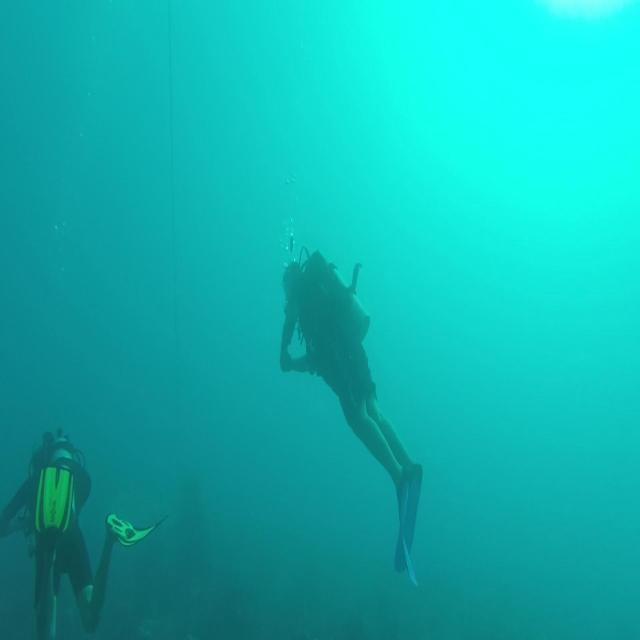human: (278, 245, 424, 586), (0, 426, 166, 638)
